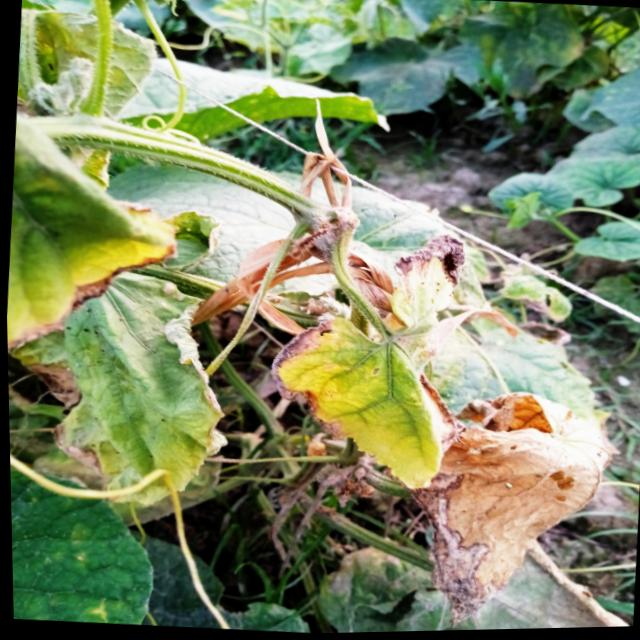Bacterial-Wilt: (6, 269, 227, 509), (407, 395, 620, 632)
